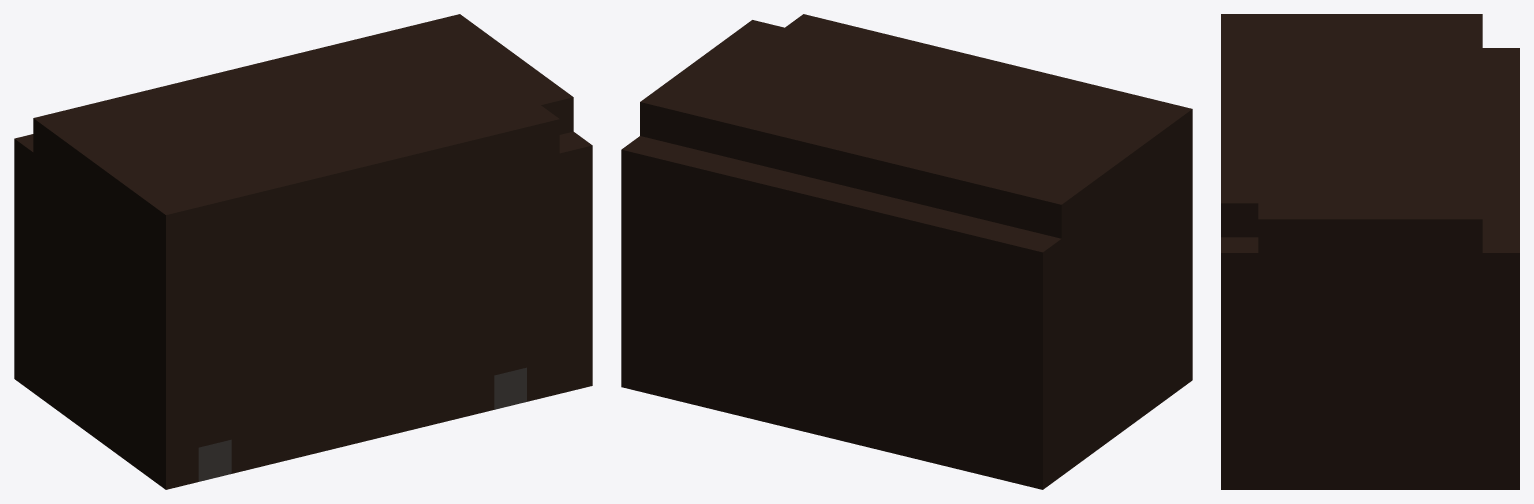
Rendered from scorched_chest_lod1.glb.
The picture shows the model from 3 angles, left to right: view 1: azimuth 30°, elevation 25°; view 2: azimuth 150°, elevation 25°; view 3: azimuth 270°, elevation 25°; orthographic projection.
Visible parts, largest first — view 1: scorched_chest_lid, scorched_chest_base; view 2: scorched_chest_lid, scorched_chest_base; view 3: scorched_chest_lid, scorched_chest_base.
Part boxes in pixels (x1,y1,x2,y2): scorched_chest_lid: (14, 14, 592, 317); scorched_chest_base: (14, 207, 592, 489); scorched_chest_lid: (621, 14, 1192, 320); scorched_chest_base: (621, 211, 1192, 489); scorched_chest_lid: (1221, 14, 1519, 320); scorched_chest_base: (1221, 320, 1519, 489).
Bounding box in the file's own units: 1.04 × 0.64 × 0.64.
